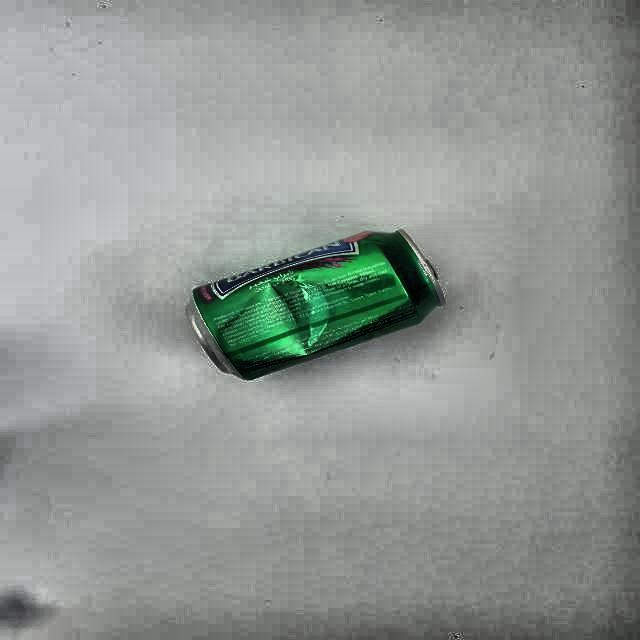metal: (190, 231, 446, 383)
